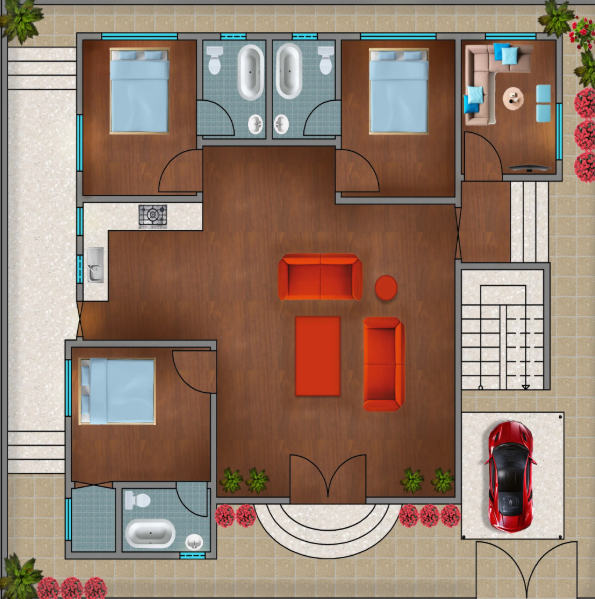door: (286, 452, 369, 504), (154, 145, 203, 195), (335, 146, 383, 196), (461, 129, 505, 180), (167, 349, 212, 395), (299, 98, 342, 139), (198, 98, 237, 139), (174, 489, 209, 519)
room: (65, 339, 217, 488), (336, 33, 462, 204), (76, 32, 202, 203), (455, 33, 563, 183), (197, 33, 272, 146), (266, 33, 341, 146)
window: (101, 32, 178, 41), (360, 32, 436, 41), (484, 32, 537, 41), (75, 113, 83, 171), (64, 360, 72, 417), (179, 550, 206, 562), (65, 498, 72, 540), (220, 32, 247, 41), (291, 33, 318, 42), (76, 208, 84, 236), (76, 255, 84, 283)
